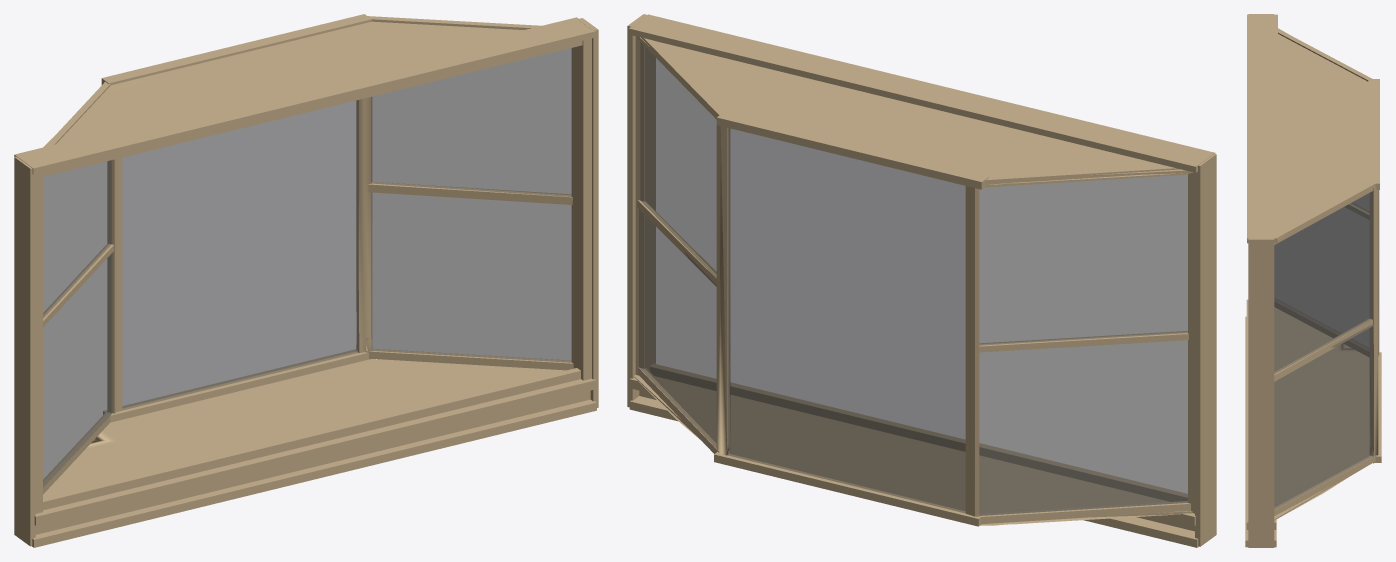
Rendered from pictureWindow.obj.
3 views of the same model, side by side, from view 1: azimuth 30°, elevation 25°; view 2: azimuth 150°, elevation 25°; view 3: azimuth 270°, elevation 25° (orthographic). The views are drawn at different scales.
Parts seen in each view (by area): view 1: sweethome3d_window_pane.005, sweethome3d_window_pane_4.002, sweethome3d_window_pane_3.002, PolyMesh_3, PolyMesh_3_1, Cube_9, sweethome3d_window_pane_2.002, Cube_10.002, Cube_5.004, sweethome3d_window_pane_1.003, Cube_9_1, Cube_6_1.001 (+15 smaller); view 2: sweethome3d_window_pane.005, sweethome3d_window_pane_2.002, sweethome3d_window_pane_1.003, PolyMesh_3_1, PolyMesh_3, Cube_9, sweethome3d_window_pane_4.002, sweethome3d_window_pane_3.002, Cube_10.002, Cube_6_1.001, Cube_4_1.002, Extruded_Object_1 (+13 smaller); view 3: PolyMesh_3, PolyMesh_3_1, sweethome3d_window_pane_4.002, sweethome3d_window_pane_3.002, sweethome3d_window_pane_2.002, Cube_10_1.002, Cube_9, Extruded_Object_1-mirror, Cube_2_1, Cube_8_1.003, Cube_1_4, Cube_1_3 (+7 smaller).
Part boxes in pixels (x1=…): sweethome3d_window_pane.005: x1=122, y1=100, x2=358, y2=409; sweethome3d_window_pane_4.002: x1=371, y1=192, x2=571, y2=362; sweethome3d_window_pane_3.002: x1=371, y1=48, x2=572, y2=196; PolyMesh_3: x1=43, y1=359, x2=565, y2=497; PolyMesh_3_1: x1=43, y1=21, x2=523, y2=147; Cube_9: x1=14, y1=17, x2=595, y2=174; sweethome3d_window_pane_2.002: x1=43, y1=253, x2=112, y2=487; Cube_10.002: x1=14, y1=156, x2=35, y2=546; Cube_5.004: x1=34, y1=378, x2=596, y2=525; sweethome3d_window_pane_1.003: x1=43, y1=160, x2=111, y2=317; Cube_9_1: x1=32, y1=399, x2=596, y2=547; Cube_6_1.001: x1=571, y1=38, x2=591, y2=380; sweethome3d_window_pane.005: x1=727, y1=128, x2=965, y2=512; sweethome3d_window_pane_2.002: x1=979, y1=340, x2=1187, y2=515; sweethome3d_window_pane_1.003: x1=979, y1=174, x2=1187, y2=345; PolyMesh_3_1: x1=639, y1=37, x2=1193, y2=184; PolyMesh_3: x1=634, y1=375, x2=1192, y2=525; Cube_9: x1=628, y1=14, x2=1215, y2=172; sweethome3d_window_pane_4.002: x1=639, y1=210, x2=716, y2=447; sweethome3d_window_pane_3.002: x1=640, y1=42, x2=716, y2=277; Cube_10.002: x1=1195, y1=154, x2=1216, y2=546; Cube_6_1.001: x1=635, y1=36, x2=655, y2=375; Cube_4_1.002: x1=650, y1=364, x2=1187, y2=501; Extruded_Object_1: x1=965, y1=186, x2=979, y2=516; PolyMesh_3: x1=1274, y1=307, x2=1369, y2=520; PolyMesh_3_1: x1=1278, y1=28, x2=1368, y2=239; sweethome3d_window_pane_4.002: x1=1274, y1=324, x2=1373, y2=509; sweethome3d_window_pane_3.002: x1=1274, y1=191, x2=1372, y2=373; sweethome3d_window_pane_2.002: x1=1274, y1=207, x2=1369, y2=350; Cube_10_1.002: x1=1248, y1=237, x2=1274, y2=547; Cube_9: x1=1247, y1=14, x2=1277, y2=243; Extruded_Object_1-mirror: x1=1370, y1=187, x2=1378, y2=463; Cube_2_1: x1=1368, y1=79, x2=1379, y2=189; Cube_8_1.003: x1=1274, y1=318, x2=1373, y2=381; Cube_1_4: x1=1274, y1=455, x2=1377, y2=515; Cube_1_3: x1=1274, y1=181, x2=1376, y2=244.
Size of what is drawn, in the model's own units: 1.04 by 0.6646 by 0.2658.
